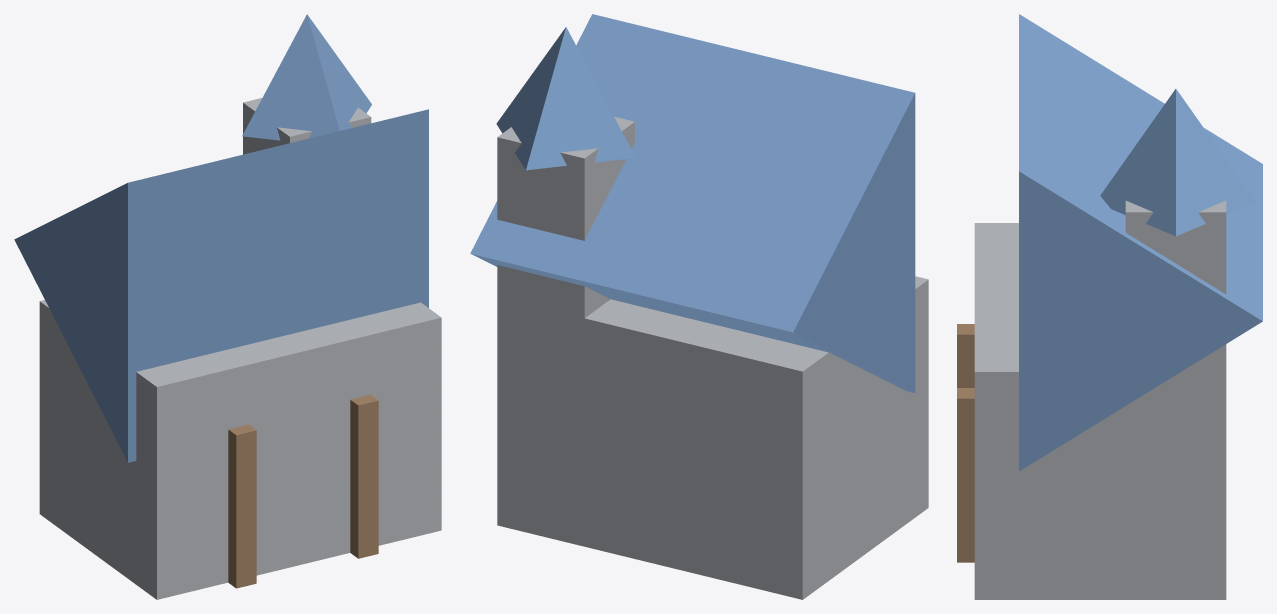
The model's file is building_hall.glb.
3 views of the same model, side by side, from view 1: azimuth 30°, elevation 25°; view 2: azimuth 150°, elevation 25°; view 3: azimuth 270°, elevation 25° (orthographic). The views are drawn at different scales.
Parts seen in each view (by area): view 1: Cube, Cylinder, Cone, Cube.003, Cube.002, Cube.001; view 2: Cube, Cylinder, Cube.001, Cone; view 3: Cylinder, Cube, Cone, Cube.001, Cube.003, Cube.002.
Part boxes in pixels (x1,y1,x2,y2): Cube: (39, 300, 441, 599); Cylinder: (14, 109, 428, 462); Cone: (242, 14, 371, 140); Cube.003: (350, 394, 378, 558); Cube.002: (228, 424, 256, 588); Cube.001: (243, 98, 371, 154); Cube: (497, 276, 928, 599); Cylinder: (470, 14, 915, 393); Cube.001: (497, 116, 634, 338); Cone: (496, 27, 635, 170); Cylinder: (1019, 14, 1262, 471); Cube: (974, 223, 1226, 599); Cone: (1100, 89, 1256, 236); Cube.001: (1125, 200, 1226, 394); Cube.003: (957, 388, 974, 562); Cube.002: (957, 324, 974, 387).
Size of the model in its own units: 7.8 by 10.75 by 6.08.
